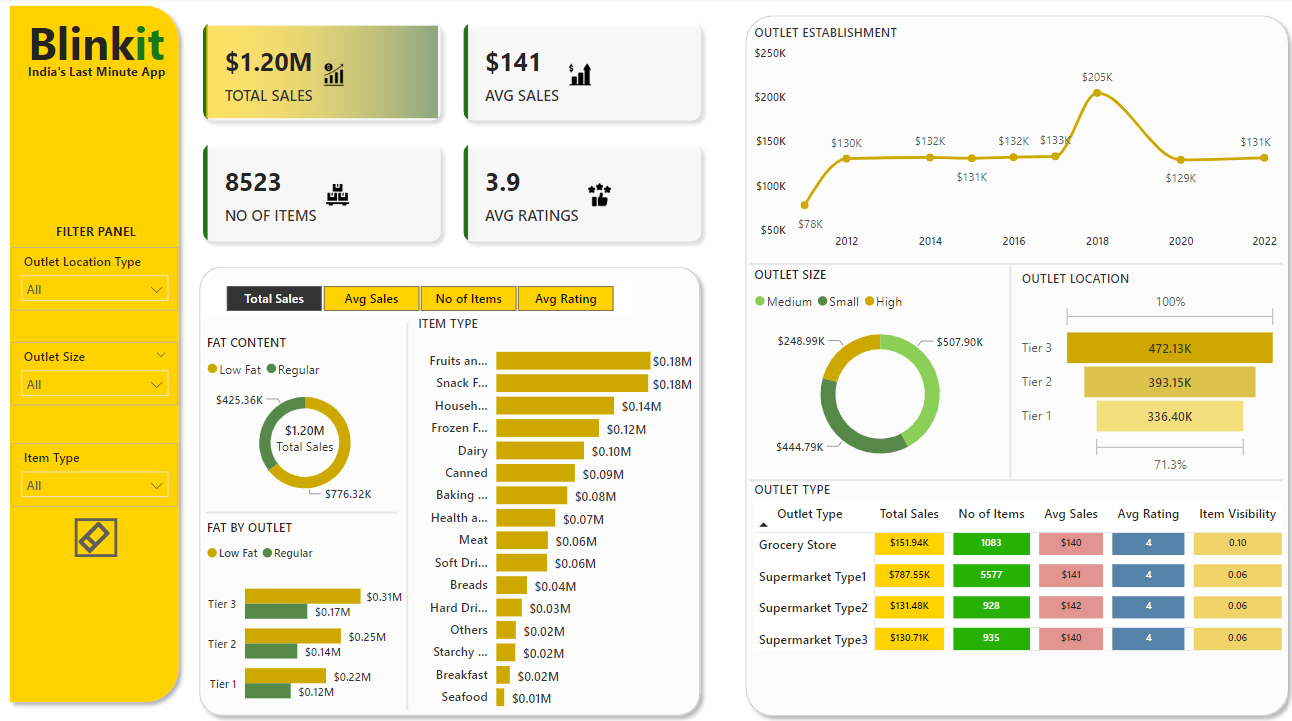

What the dashboard file says about the page in this screenshot:
{"tool":"powerbi","page":{"name":"Page 1","canvas":[1400,800],"ordinal":0},"visuals":[{"type":"shape","box":[10.5,0,199.4,765],"z":0},{"type":"textbox","box":[10.5,10.5,203.9,82.5],"z":1000},{"type":"textbox","box":[0,66,226.4,36],"z":2000},{"type":"cardVisual","fields":{"Data":["BlinkIT Grocery Data.Total Sales","BlinkIT Grocery Data.Avg Sales","BlinkIT Grocery Data.No of Items","BlinkIT Grocery Data.Avg Rating"]},"box":[209.9,10.5,569.8,269.9],"z":3000},{"type":"shape","box":[214.4,280.4,554.8,499.4],"z":4000},{"type":"slicer","fields":{"Values":["Metrics.Metrics"]},"box":[226.4,302.9,465,40],"z":5000},{"type":"donutChart","title":"FAT CONTENT","fields":{"Y":["BlinkIT Grocery Data.Total Sales"],"Category":["BlinkIT Grocery Data.Item Fat Content"]},"box":[226.4,359.9,220.4,187.4],"z":6000},{"type":"cardVisual","fields":{"Data":["BlinkIT Grocery Data.Total Sales"]},"box":[284.1,438.2,105.9,64.3],"z":7000},{"type":"clusteredBarChart","title":"FAT BY OUTLET","fields":{"Y":["BlinkIT Grocery Data.Total Sales"],"Series":["BlinkIT Grocery Data.Item Fat Content"],"Category":["BlinkIT Grocery Data.Outlet Location Type"]},"box":[226.5,558.8,219.8,217.1],"z":8000},{"type":"shape","box":[230.5,546.7,205,12.1],"z":9000},{"type":"shape","box":[439.4,349.4,13.5,415.4],"z":10000},{"type":"clusteredBarChart","title":"ITEM TYPE","fields":{"Y":["BlinkIT Grocery Data.Total Sales"],"Category":["BlinkIT Grocery Data.Item Type"]},"box":[452.9,340.4,304.4,434.9],"z":11000},{"type":"shape","box":[800,10.7,600.3,769.2],"z":12000},{"type":"lineChart","title":"OUTLET ESTABLISHMENT","fields":{"Category":["BlinkIT Grocery Data.Outlet Establishment Year"],"Y":["BlinkIT Grocery Data.Total Sales"]},"box":[813.4,28.1,570.9,251.9],"z":13000},{"type":"donutChart","title":"OUTLET SIZE","fields":{"Category":["BlinkIT Grocery Data.Outlet Size"],"Y":["BlinkIT Grocery Data.Total Sales"]},"box":[813.4,288.1,280.1,227.8],"z":14000},{"type":"shape","box":[813.4,280.1,570.9,12.1],"z":15000},{"type":"funnel","title":"OUTLET LOCATION","fields":{"Y":["Sum(BlinkIT Grocery Data.Sales)"],"Category":["BlinkIT Grocery Data.Outlet Location Type"]},"box":[1100.2,292.1,284.1,223.8],"z":16000},{"type":"shape","box":[1086.8,288.1,12.1,227.8],"z":17000},{"type":"shape","box":[813.4,511.9,570.9,12.1],"z":18000},{"type":"pivotTable","title":"OUTLET TYPE","fields":{"Rows":["BlinkIT Grocery Data.Outlet Type"],"Values":["BlinkIT Grocery Data.Total Sales","BlinkIT Grocery Data.No of Items","BlinkIT Grocery Data.Avg Sales","BlinkIT Grocery Data.Avg Rating","Avg(BlinkIT Grocery Data.Item Visibility)"]},"box":[813.4,518.6,586.9,246.6],"z":19000},{"type":"slicer","fields":{"Values":["BlinkIT Grocery Data.Outlet Location Type"]},"box":[21.4,268,179.6,68.3],"z":20000},{"type":"slicer","fields":{"Values":["BlinkIT Grocery Data.Outlet Size"]},"box":[21.4,369.8,179.6,68.3],"z":21000},{"type":"slicer","fields":{"Values":["BlinkIT Grocery Data.Item Type"]},"box":[21.4,478.4,179.6,68.3],"z":22000},{"type":"textbox","box":[10.7,237.2,203.7,30.8],"z":22001},{"type":"actionButton","box":[89.8,558.8,45.6,41.5],"z":22002}]}

Visuals, with their boxes in screenshot pixels (x1, y1, x2, y2), scaled from the page's 1400x800 canvas onto the 1292x721 screenshot:
shape: box(10, 0, 194, 689)
textbox: box(10, 9, 198, 84)
textbox: box(0, 59, 209, 92)
cardVisual - BlinkIT Grocery Data.Total Sales x BlinkIT Grocery Data.Avg Sales: box(194, 9, 720, 253)
shape: box(198, 253, 710, 703)
slicer - Metrics.Metrics: box(209, 273, 638, 309)
"FAT CONTENT" donutChart: box(209, 324, 412, 493)
cardVisual - BlinkIT Grocery Data.Total Sales: box(262, 395, 360, 453)
"FAT BY OUTLET" clusteredBarChart: box(209, 504, 412, 699)
shape: box(213, 493, 402, 504)
shape: box(406, 315, 418, 689)
"ITEM TYPE" clusteredBarChart: box(418, 307, 699, 699)
shape: box(738, 10, 1291, 703)
"OUTLET ESTABLISHMENT" lineChart: box(751, 25, 1278, 252)
"OUTLET SIZE" donutChart: box(751, 260, 1009, 465)
shape: box(751, 252, 1278, 263)
"OUTLET LOCATION" funnel: box(1015, 263, 1278, 465)
shape: box(1003, 260, 1014, 465)
shape: box(751, 461, 1278, 472)
"OUTLET TYPE" pivotTable: box(751, 467, 1291, 690)
slicer - BlinkIT Grocery Data.Outlet Location Type: box(20, 242, 185, 303)
slicer - BlinkIT Grocery Data.Outlet Size: box(20, 333, 185, 395)
slicer - BlinkIT Grocery Data.Item Type: box(20, 431, 185, 493)
textbox: box(10, 214, 198, 242)
actionButton: box(83, 504, 125, 541)
